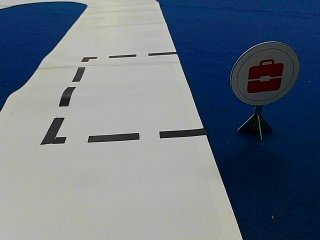company: (231, 41, 299, 104)
